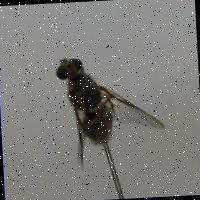Oriental-fruit-fly: (54, 53, 168, 169)
